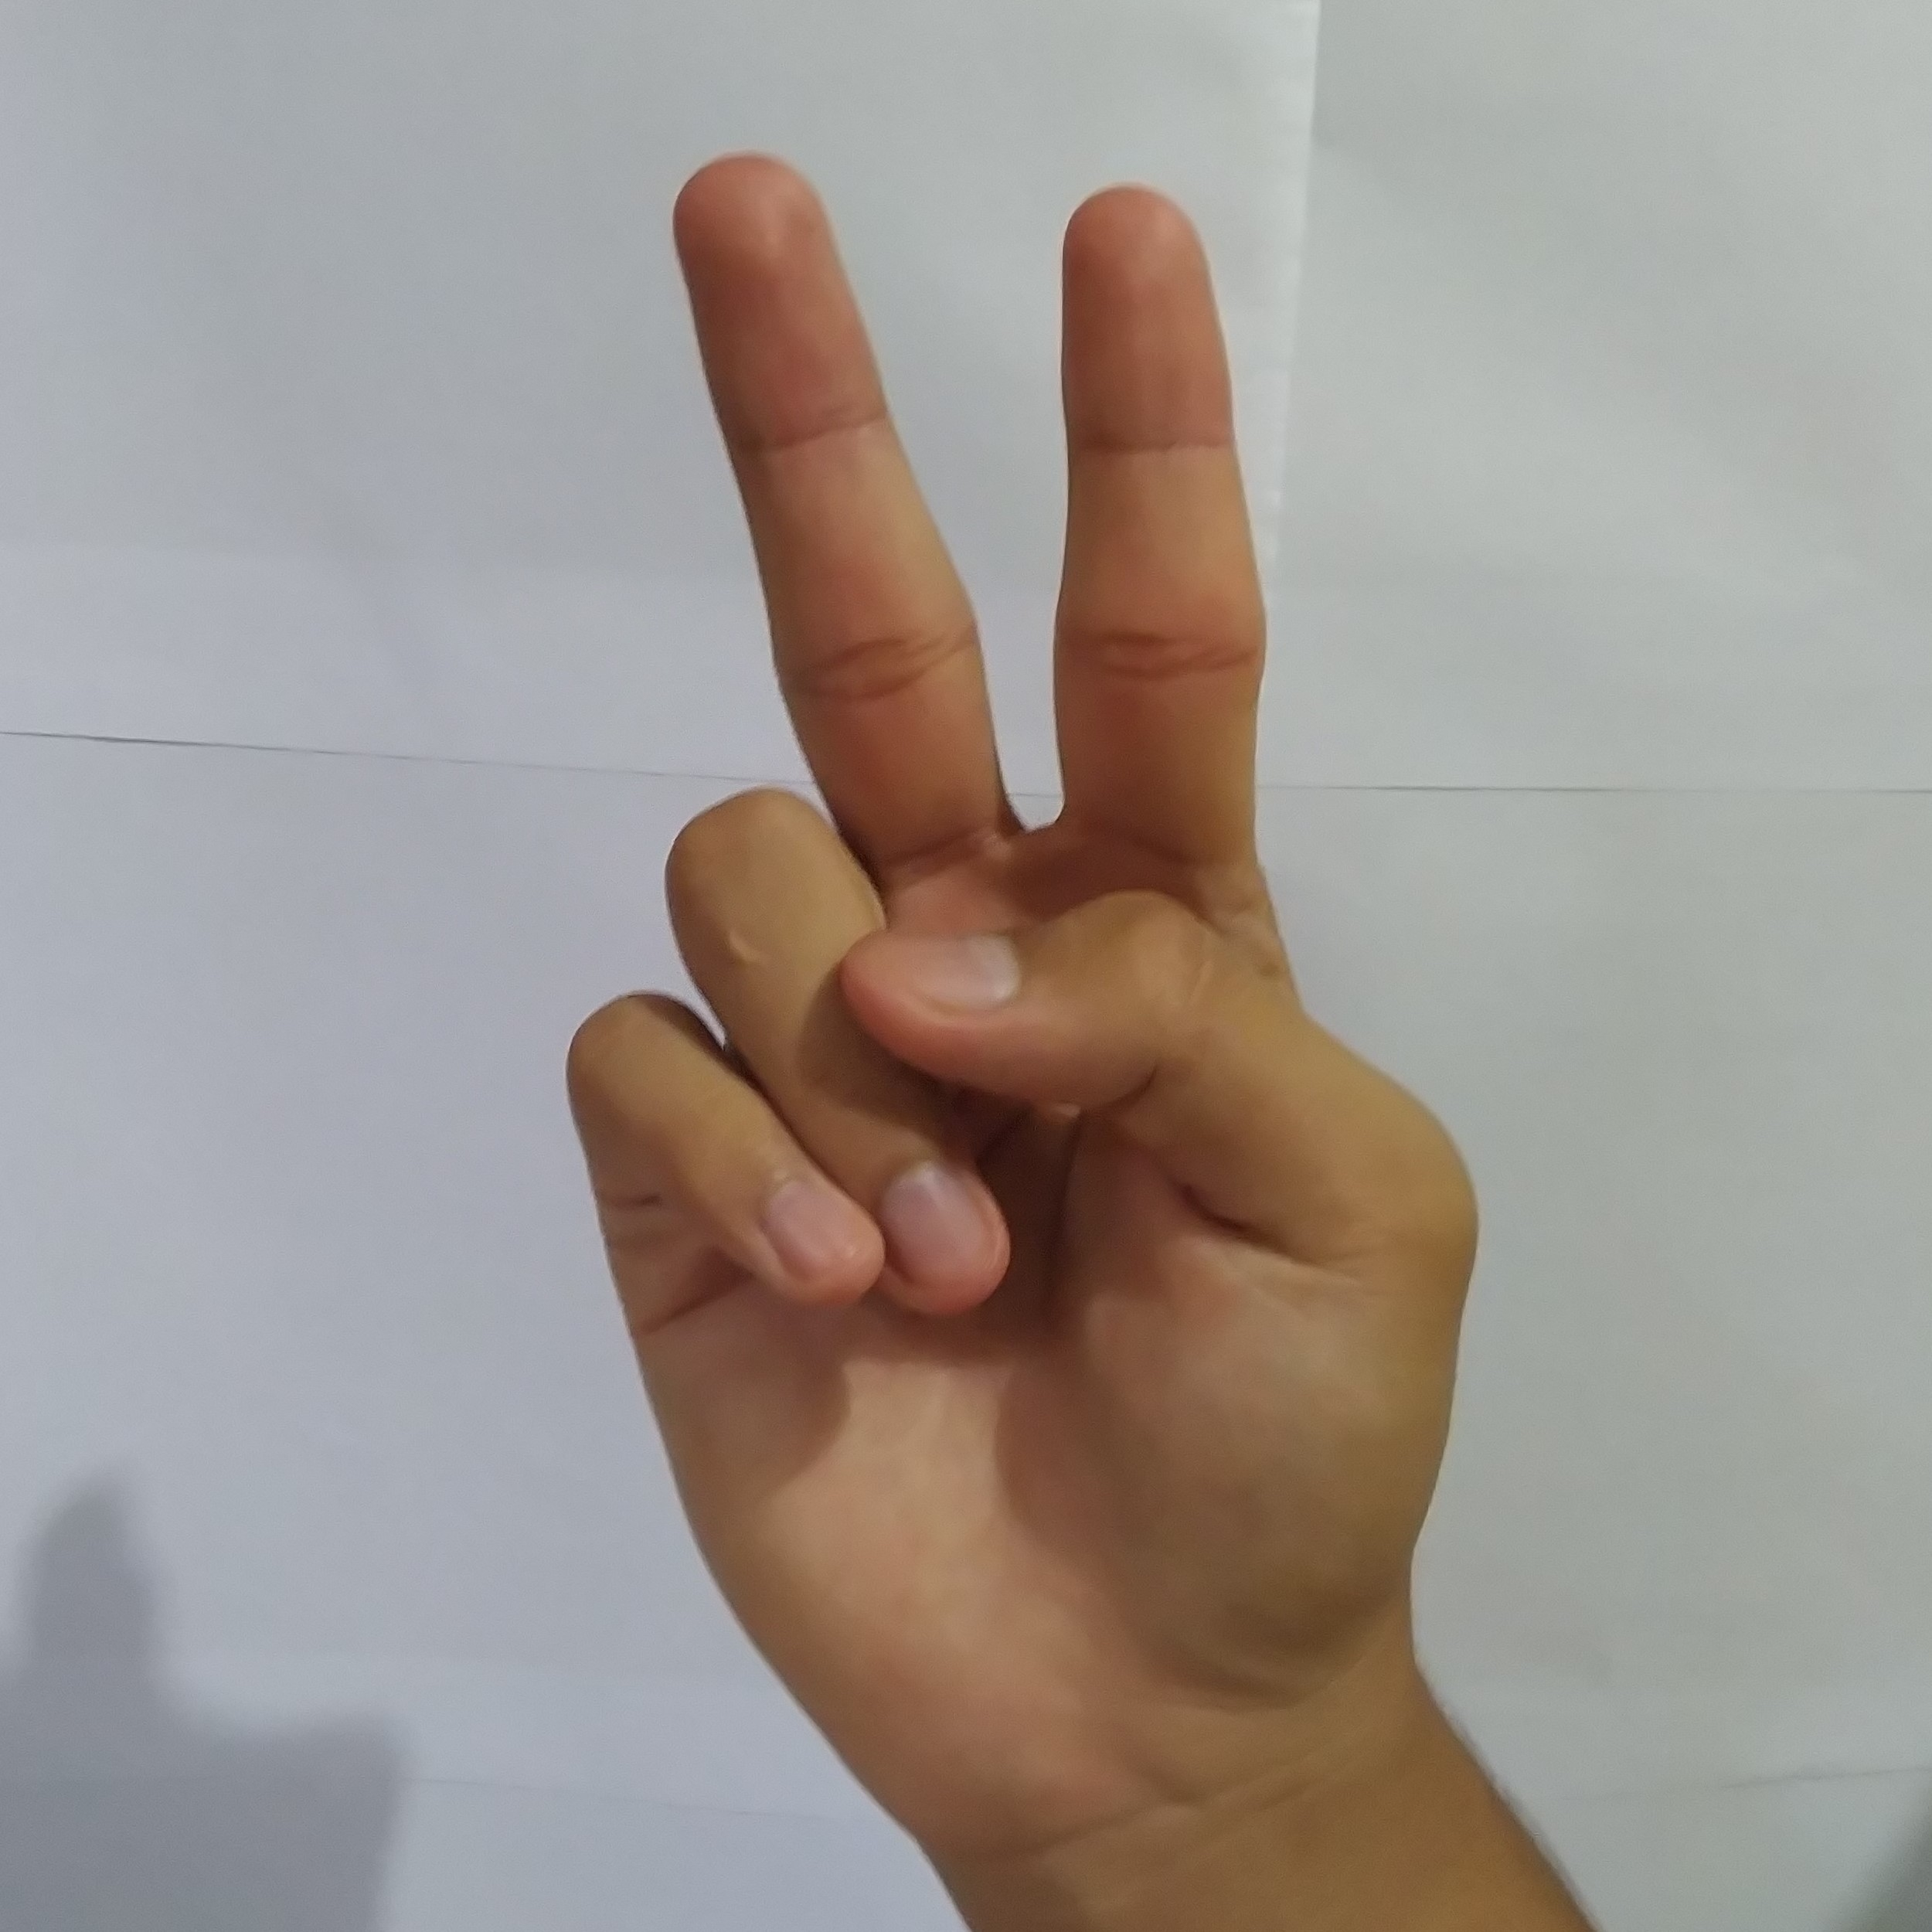V: (525, 126, 1511, 1824)
